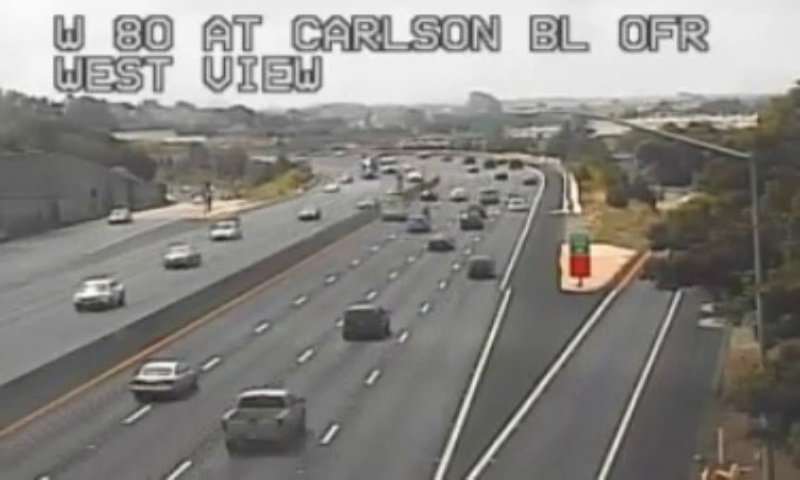car: (223, 389, 304, 449), (131, 360, 193, 395), (342, 304, 389, 337), (468, 258, 493, 277)
